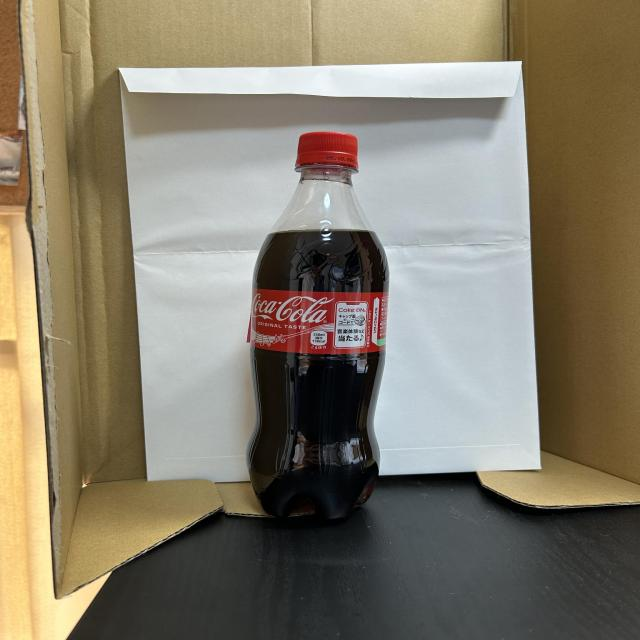high: (247, 132, 389, 519)
